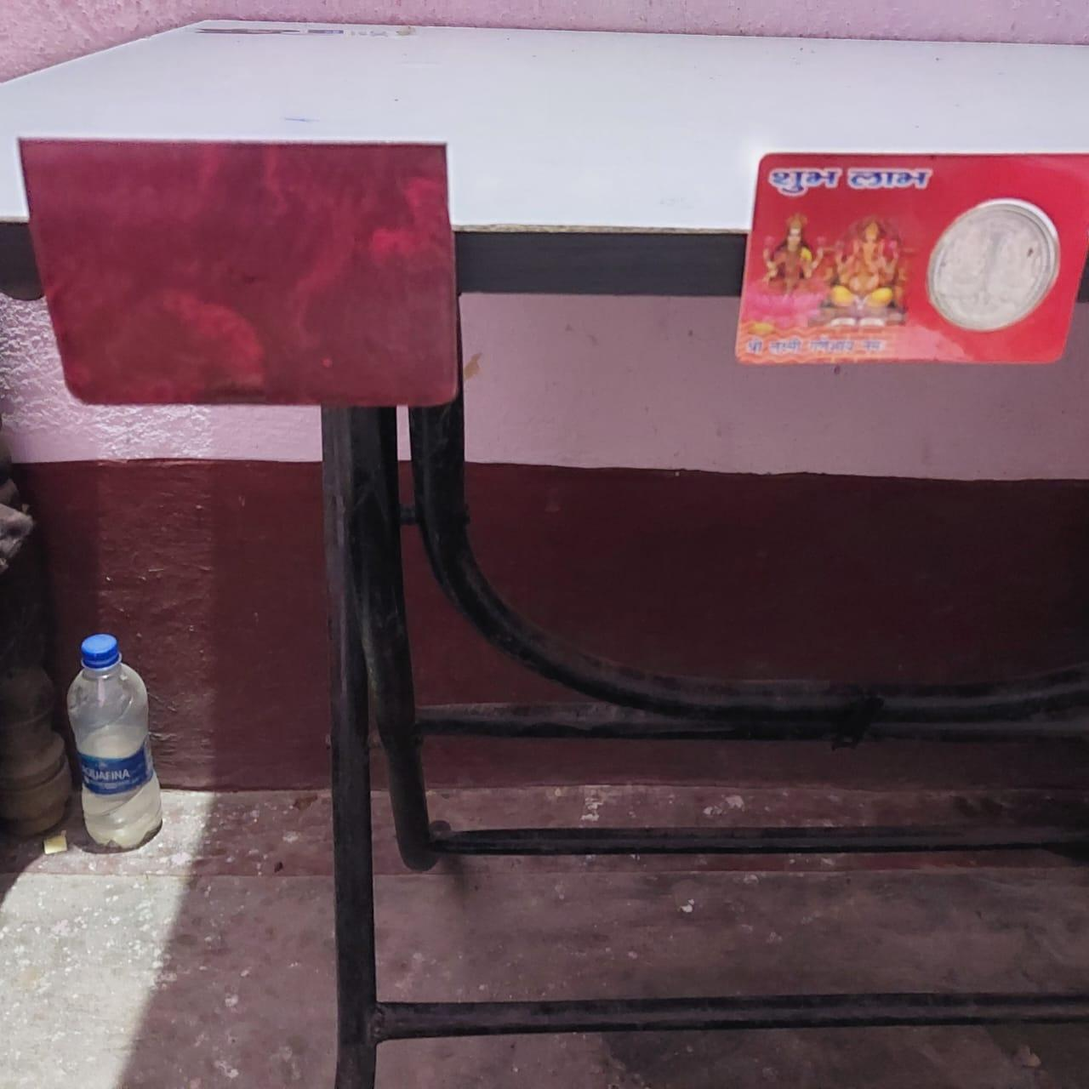blessing_card: (737, 135, 1088, 366)
wallet: (20, 131, 470, 409)
